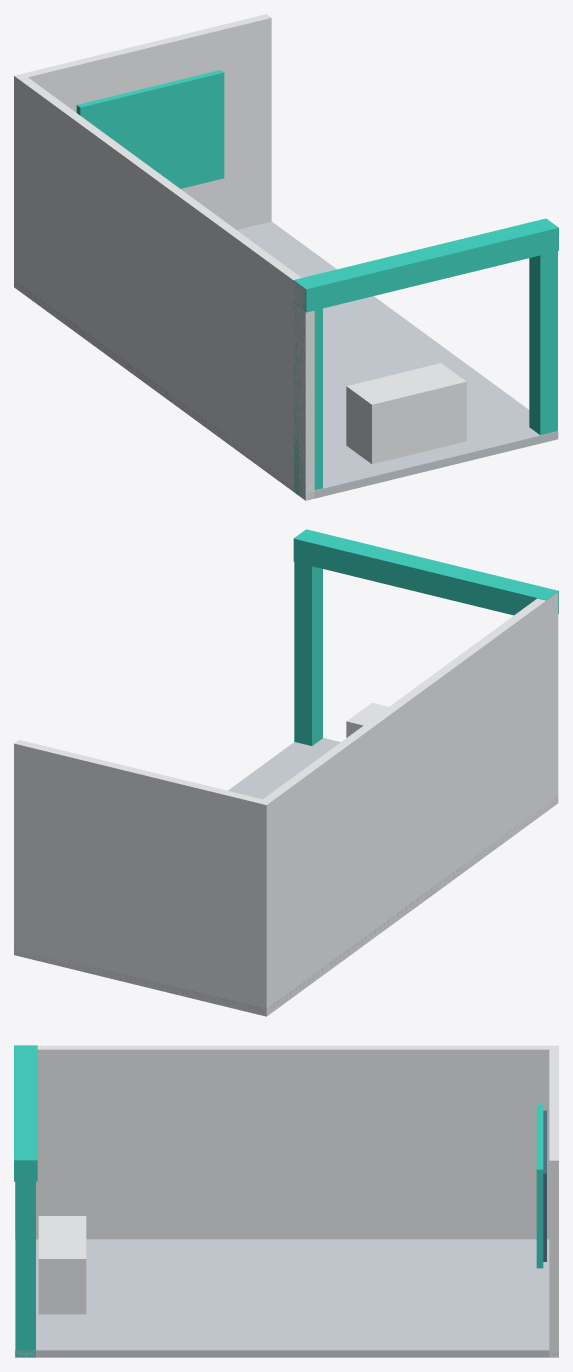
3 renders of one model, top to bottom at view 1: azimuth 30°, elevation 25°; view 2: azimuth 150°, elevation 25°; view 3: azimuth 270°, elevation 25°, orthographic. The views are drawn at different scales.
Visible parts, largest first — view 1: Exhibition Booth Concept; view 2: Exhibition Booth Concept; view 3: Exhibition Booth Concept.
Part boxes in pixels (left/top/right/bottom): Exhibition Booth Concept: left=14, top=14, right=558, bottom=500; Exhibition Booth Concept: left=14, top=529, right=558, bottom=1016; Exhibition Booth Concept: left=14, top=1045, right=558, bottom=1357.
Bounding box in the file's own units: 4 × 3.2 × 8.01.
